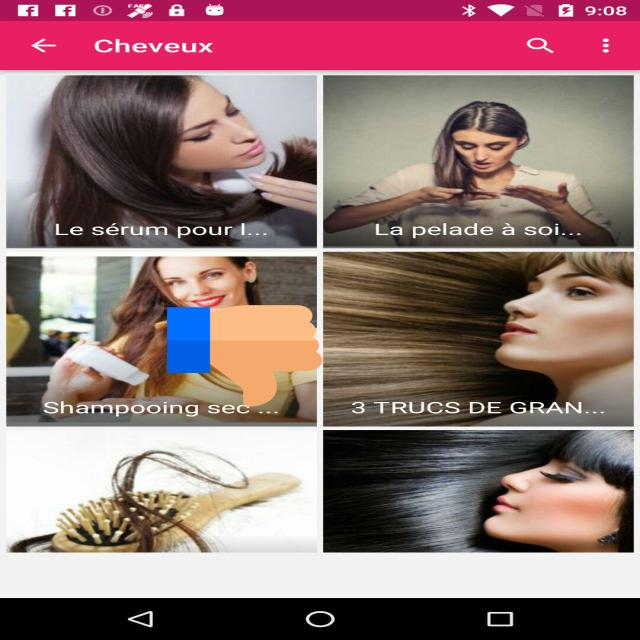obstruction: (167, 303, 322, 409)
